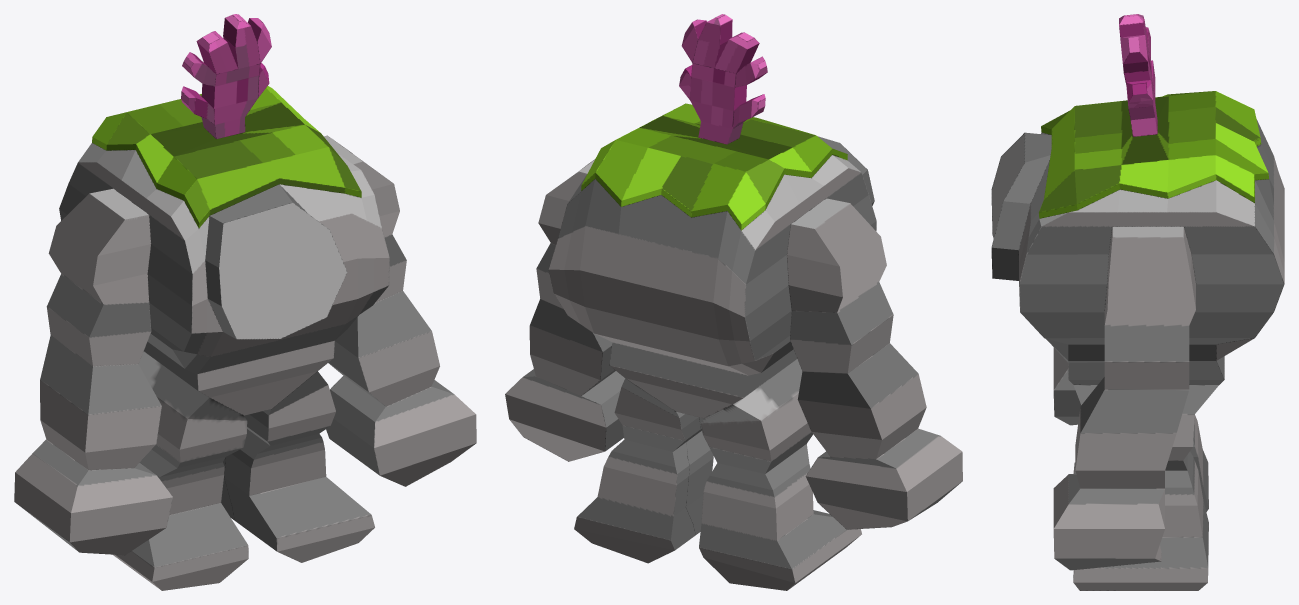
File: MonstroWithTexture.fbx
3 renders of one model, left to right at view 1: azimuth 30°, elevation 25°; view 2: azimuth 150°, elevation 25°; view 3: azimuth 270°, elevation 25°, orthographic.
Parts seen in each view (by area): view 1: Cube; view 2: Cube; view 3: Cube.
Part boxes in pixels (x1=…): Cube: x1=14, y1=14, x2=476, y2=590; Cube: x1=505, y1=14, x2=962, y2=590; Cube: x1=991, y1=14, x2=1284, y2=590.
Size of the model in its own units: 197 by 247 by 123.
Materials: 1 (1 with a texture image).
